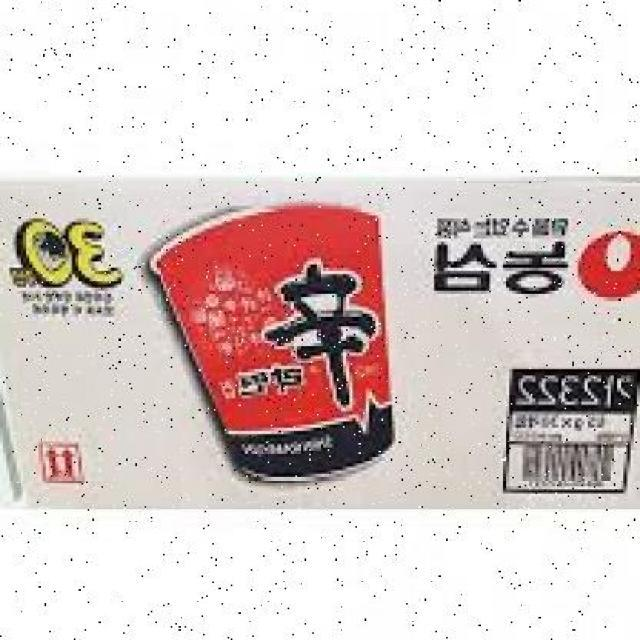Miscellaneous: (156, 199, 410, 481)
